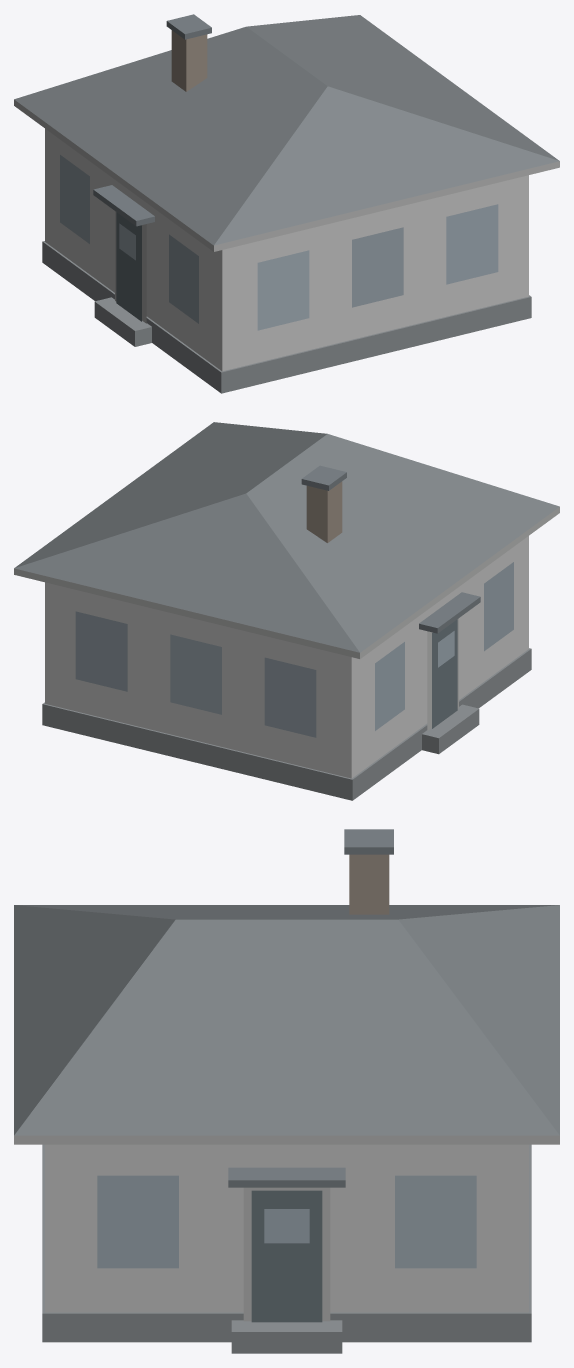
The model's file is home_1.glb.
3 renders of one model, top to bottom at view 1: azimuth 30°, elevation 25°; view 2: azimuth 150°, elevation 25°; view 3: azimuth 270°, elevation 25°, orthographic. The views are drawn at different scales.
Parts seen in each view (by area): view 1: home_1; view 2: home_1; view 3: home_1.
Boxes of the visible parts, <box> form: home_1: <box>14,14,559,393</box>; home_1: <box>14,422,559,800</box>; home_1: <box>14,829,559,1353</box>.
Size of the model in its own units: 7.9 by 5.68 by 7.9.
